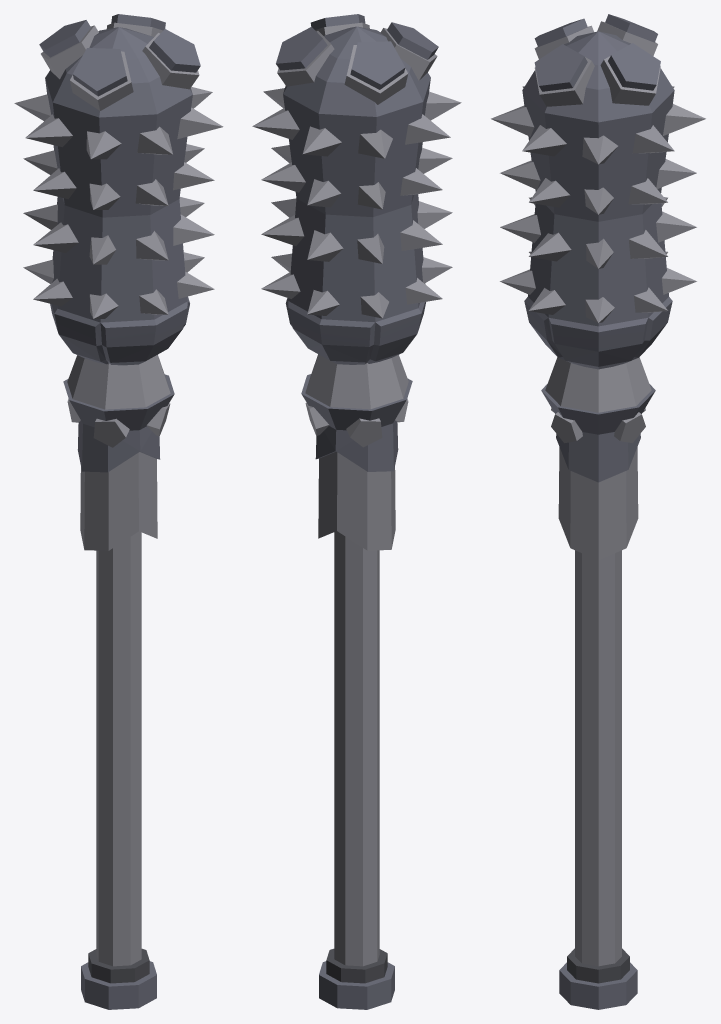
Rendered from _hammer_02.fbx.
3 renders of one model, left to right at view 1: azimuth 30°, elevation 25°; view 2: azimuth 150°, elevation 25°; view 3: azimuth 270°, elevation 25°, orthographic.
Parts seen in each view (by area): view 1: hammer_02; view 2: hammer_02; view 3: hammer_02.
Part boxes in pixels (bbox=[...]): hammer_02: bbox=[14, 14, 223, 1009]; hammer_02: bbox=[252, 14, 461, 1009]; hammer_02: bbox=[491, 14, 705, 1009].
Size of the model in its own units: 15.99 by 78.58 by 15.99.
